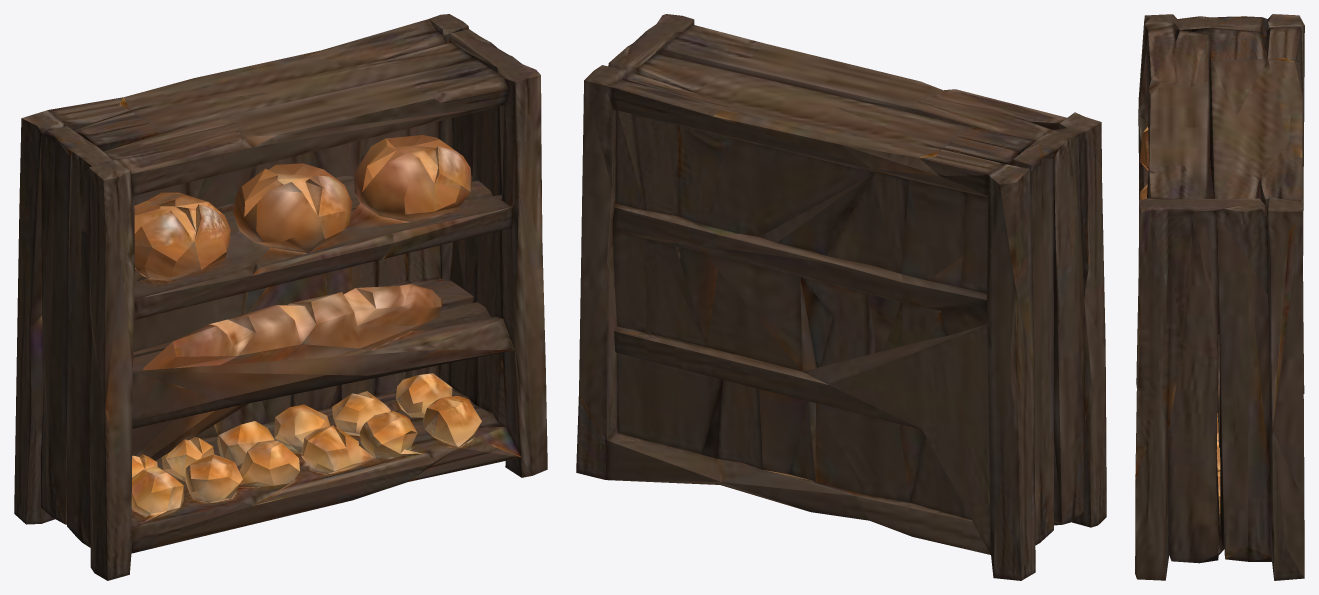
Rendered from bread_shelf_3d.glb.
3 renders of one model, left to right at view 1: azimuth 30°, elevation 25°; view 2: azimuth 150°, elevation 25°; view 3: azimuth 270°, elevation 25°, orthographic. The views are drawn at different scales.
Visible parts, largest first — view 1: Mesh_0; view 2: Mesh_0; view 3: Mesh_0.
Boxes of the visible parts, left/top/right/bottom form: Mesh_0: left=14, top=14, right=547, bottom=580; Mesh_0: left=576, top=14, right=1106, bottom=580; Mesh_0: left=1135, top=14, right=1304, bottom=580.
Bounding box in the file's own units: 2.03 × 1.75 × 0.7238.
Materials: 1 (1 with a texture image).
